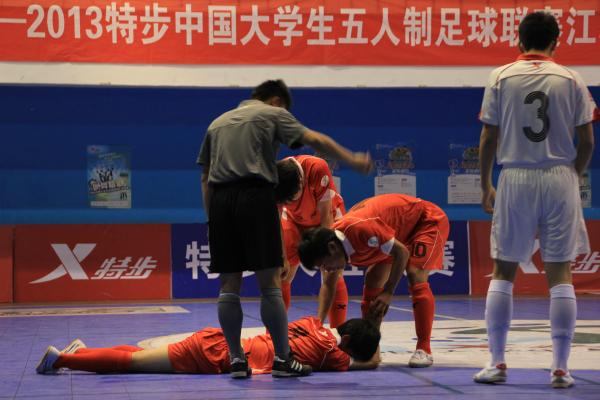bending: (310, 192, 454, 367), (273, 155, 346, 323)
down: (32, 310, 385, 372)
up: (466, 5, 600, 388), (192, 80, 299, 381)
